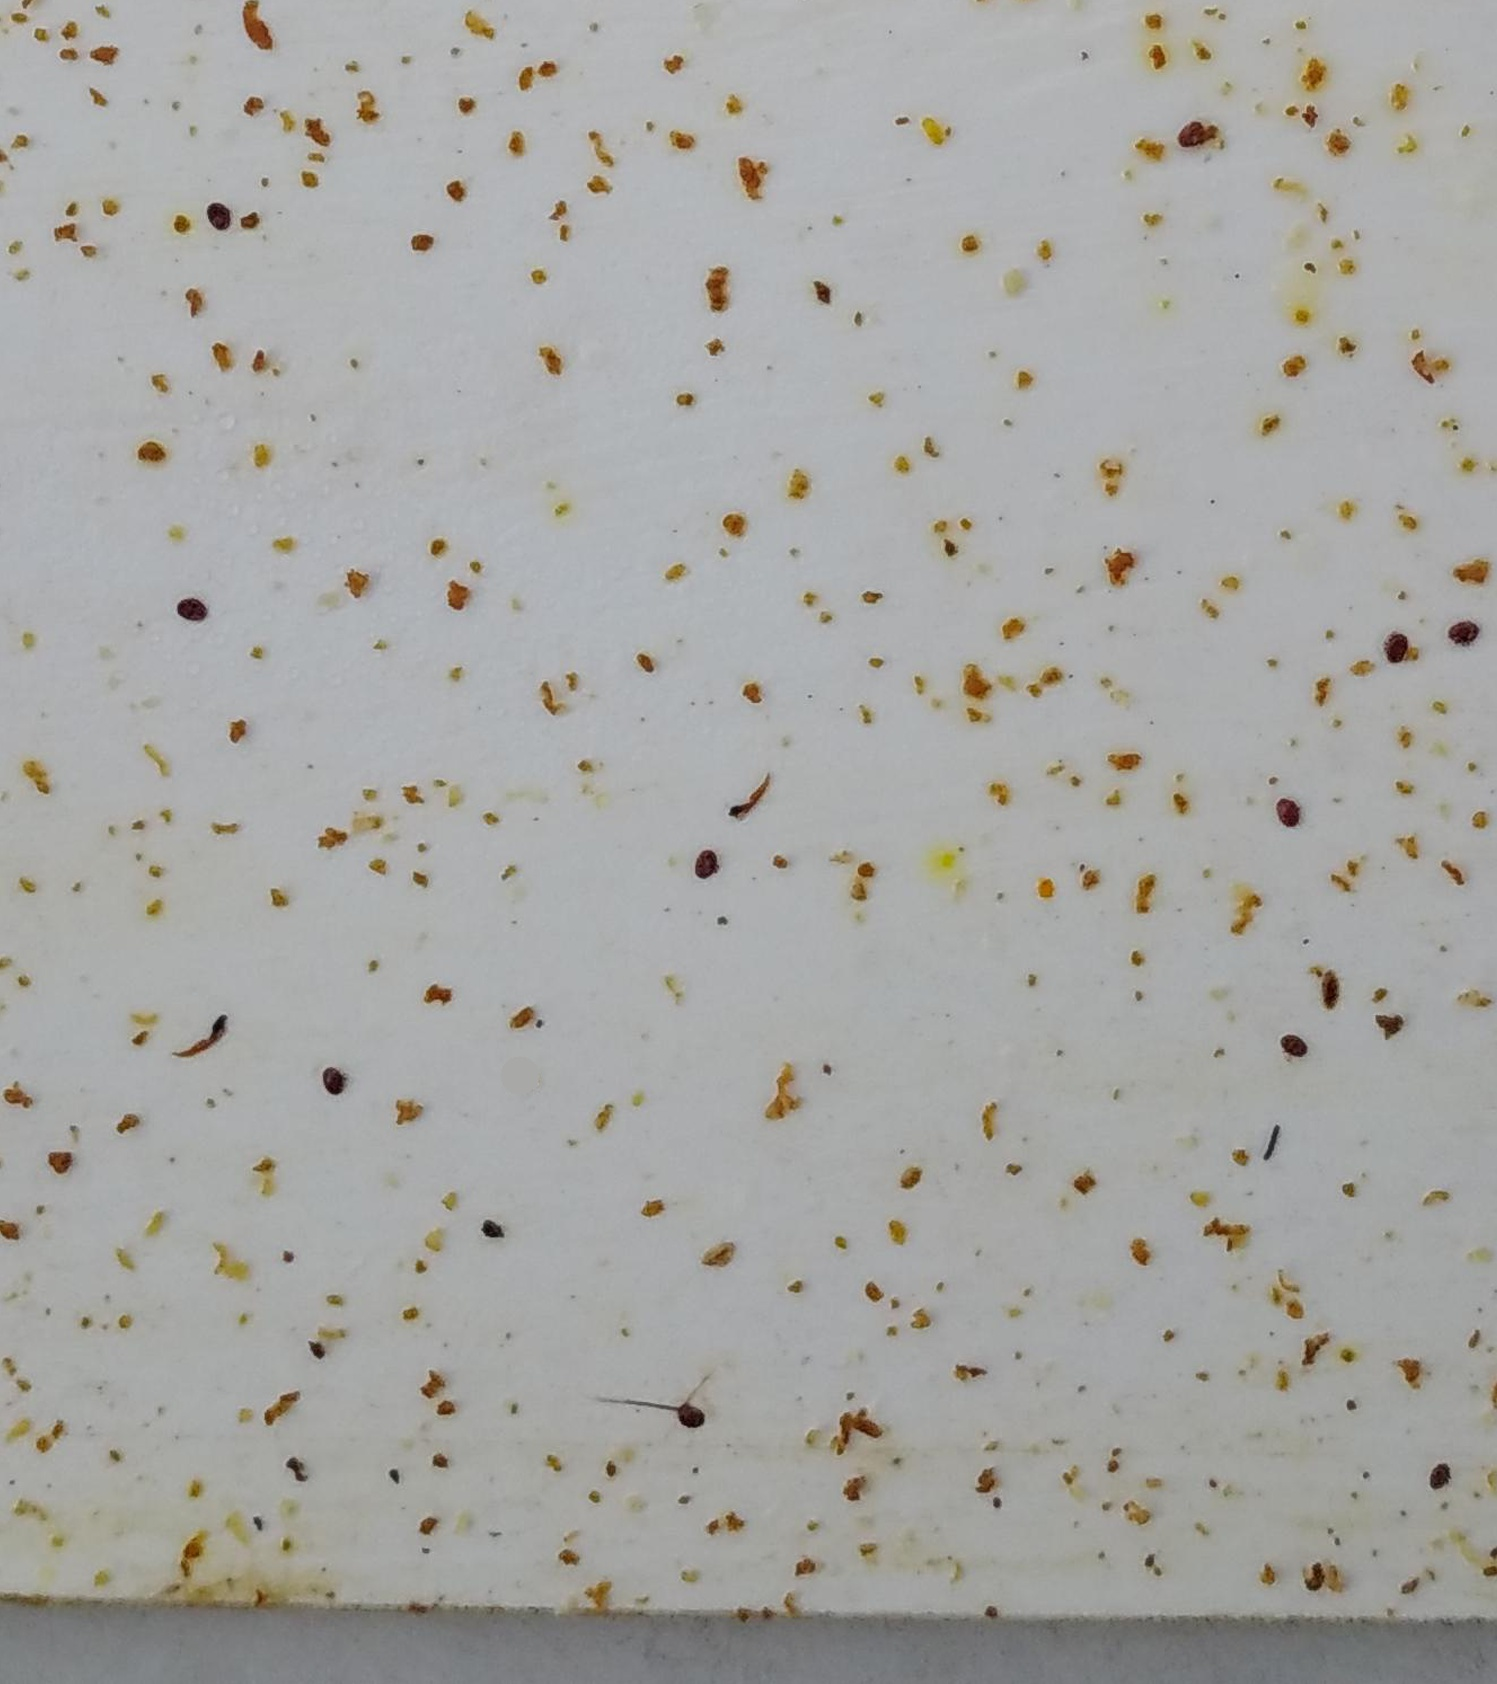Varroa: (1293, 1557, 1334, 1597), (694, 849, 724, 877), (1178, 123, 1207, 152), (1384, 630, 1413, 658), (678, 1399, 704, 1424), (207, 199, 233, 224), (1454, 622, 1477, 648), (1428, 1461, 1449, 1487), (1282, 1034, 1303, 1060), (327, 1065, 348, 1090), (181, 604, 201, 627), (1286, 802, 1299, 814)
